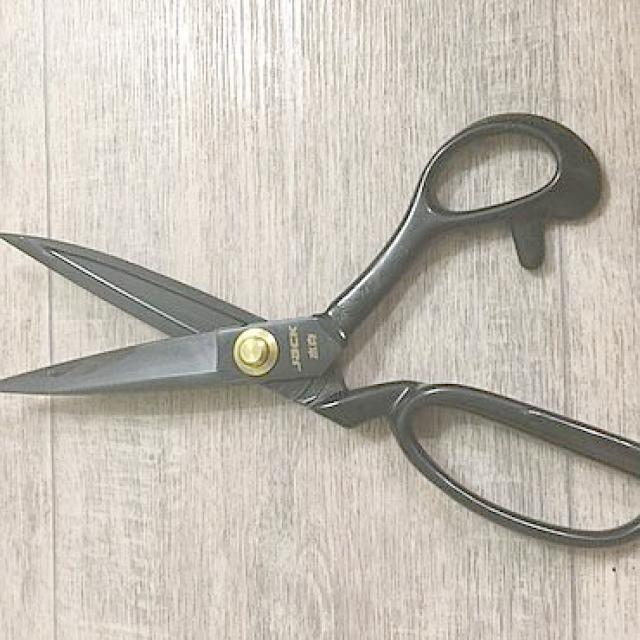scissors: (0, 110, 640, 549)
